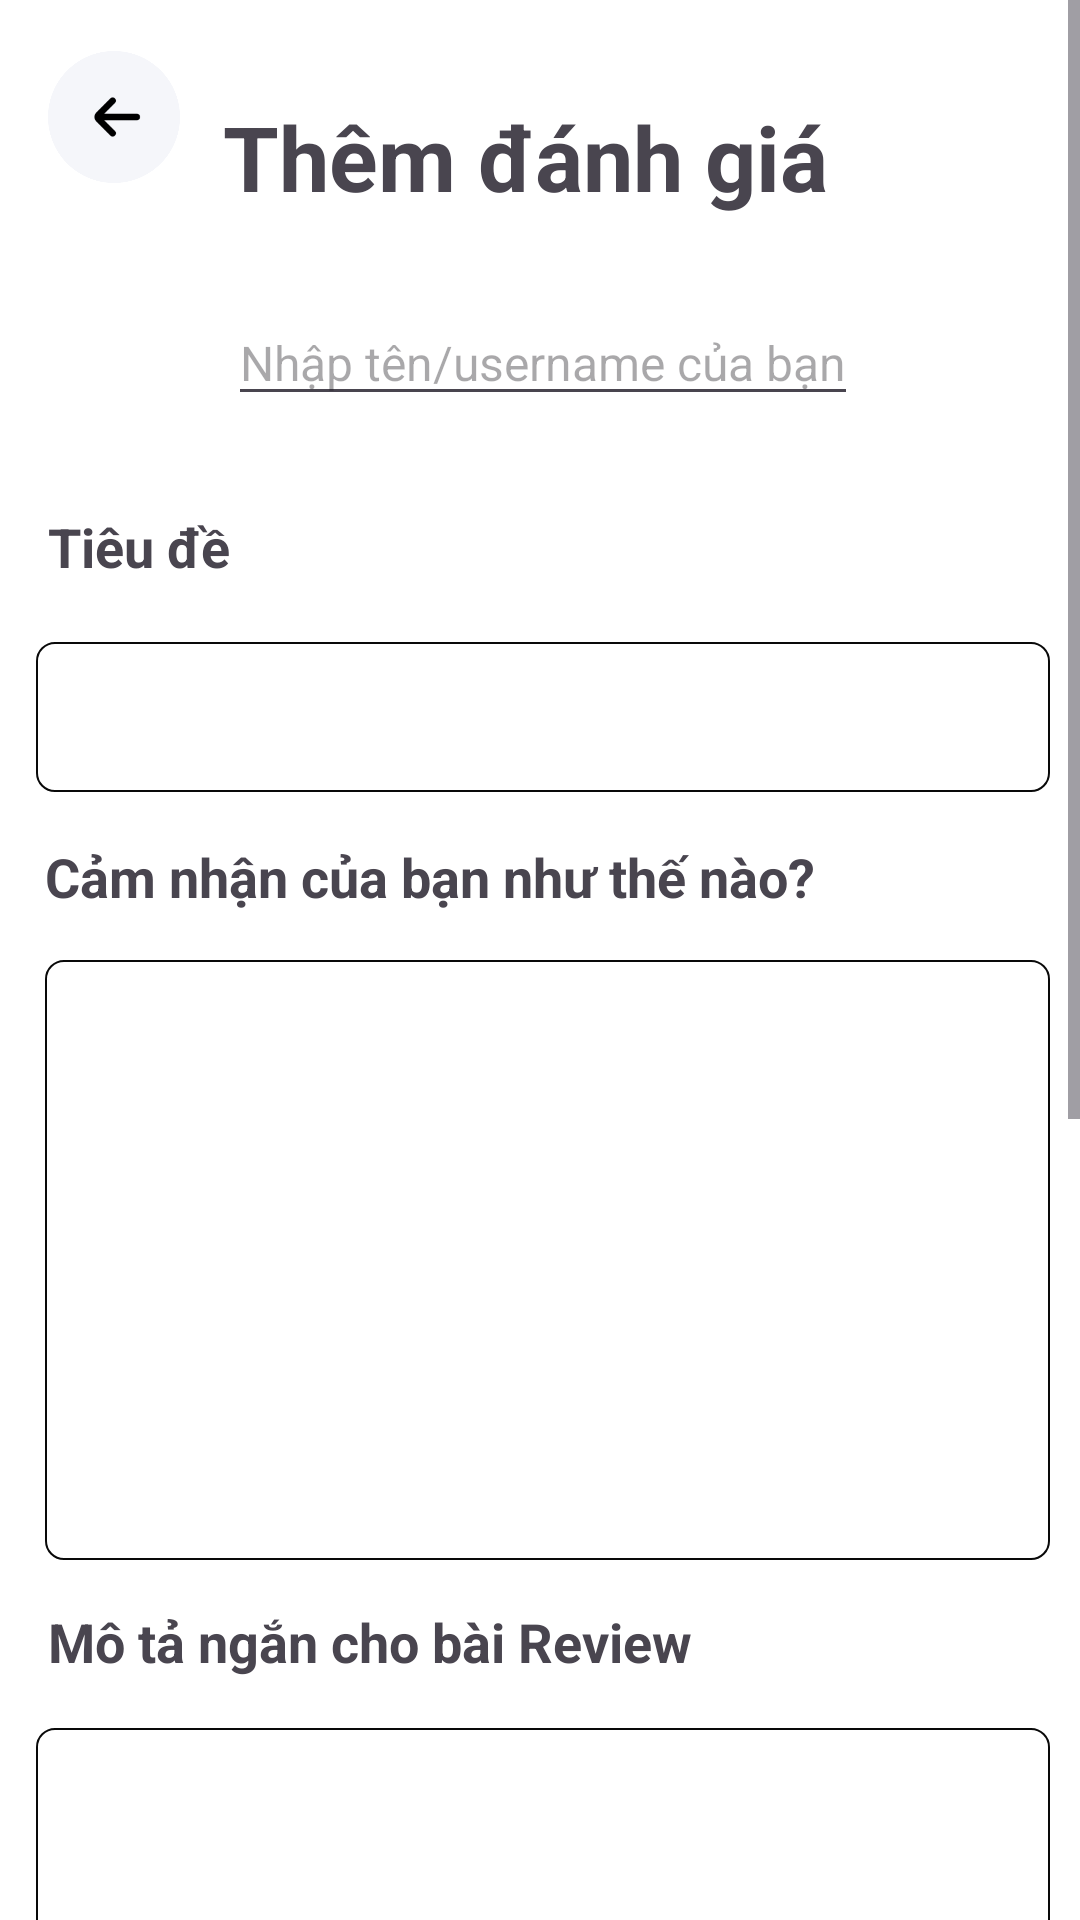

Named icons in this screenshot (1080*1920) and their bounding boxes, box(x1, y1, x2, y2):
back: box(48, 51, 180, 183)
